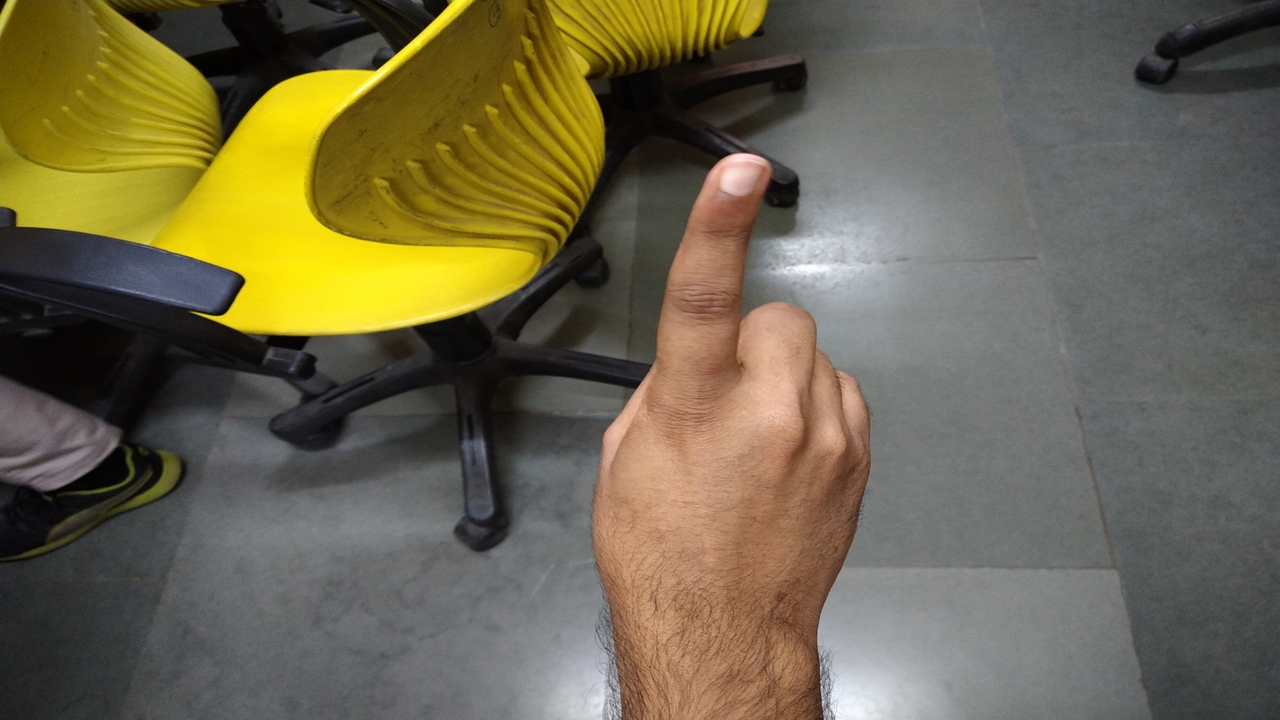fingertip: (698, 144, 778, 214)
